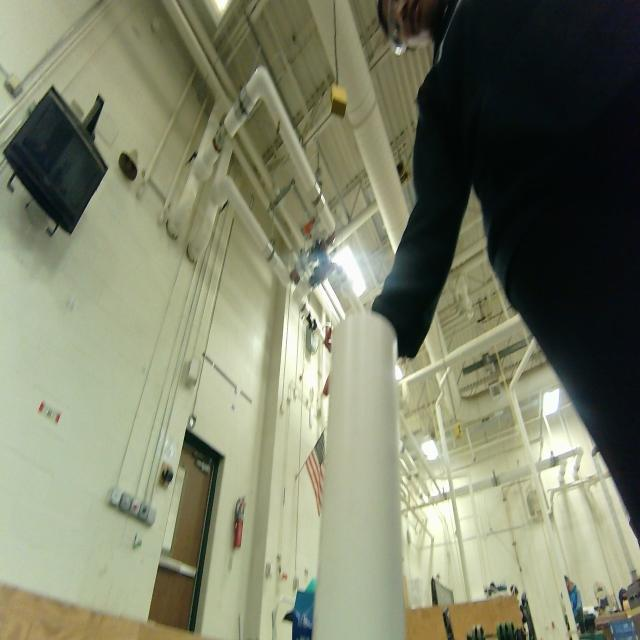coral: (306, 298, 417, 640)
